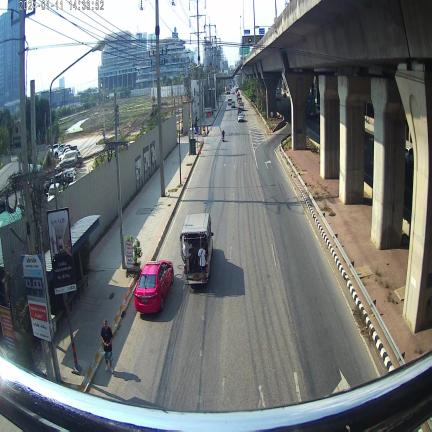human: (101, 319, 113, 373), (198, 247, 206, 278)
taxi: (134, 260, 174, 313)
